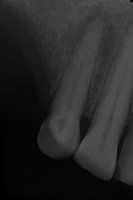Furcation Involvement: (75, 10, 117, 60)
